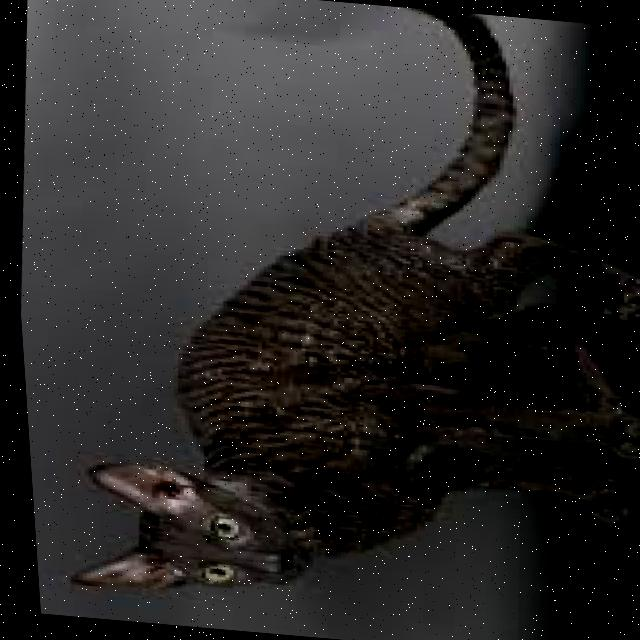Cornish Rex: (19, 0, 640, 640)
